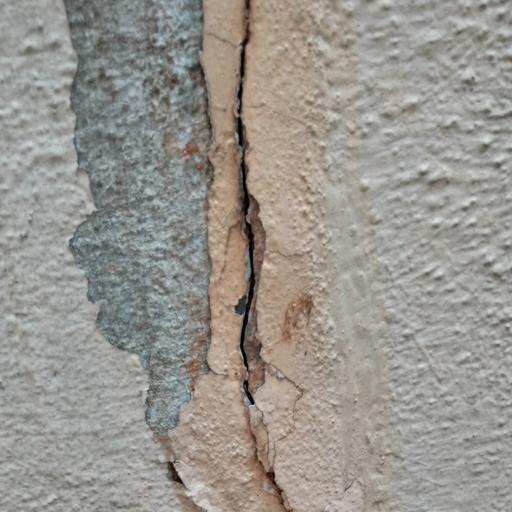major_crack: (205, 0, 303, 512)
